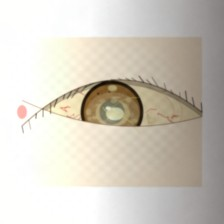corneal_ulcer: (85, 91, 141, 136)
